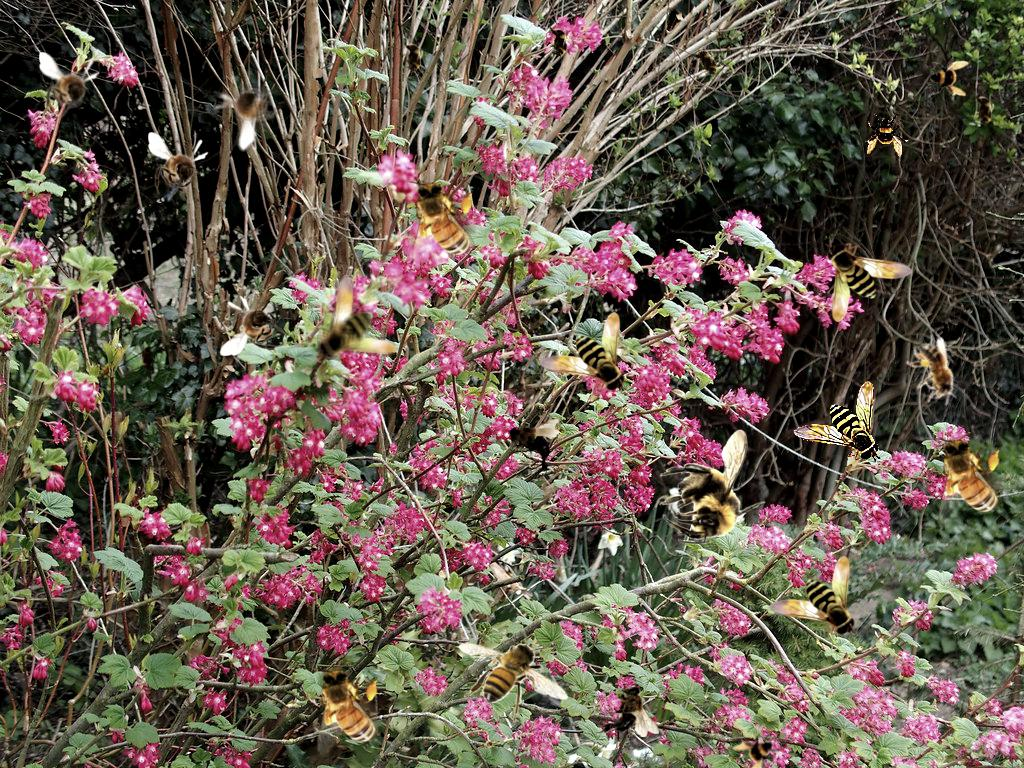Bee: (659, 429, 766, 544), (458, 629, 569, 723), (202, 60, 295, 154), (315, 274, 397, 362), (769, 556, 857, 638), (539, 312, 627, 394), (793, 381, 881, 463), (825, 240, 913, 322), (313, 662, 381, 755), (935, 432, 1003, 525), (408, 175, 476, 268), (900, 335, 970, 414), (499, 407, 564, 479), (148, 132, 209, 202), (39, 52, 100, 122), (220, 295, 290, 356), (597, 684, 659, 737), (728, 723, 790, 768), (865, 113, 909, 157), (925, 54, 969, 98), (687, 40, 727, 86), (547, 22, 571, 64), (973, 91, 995, 131), (402, 38, 424, 78), (138, 338, 160, 378)
